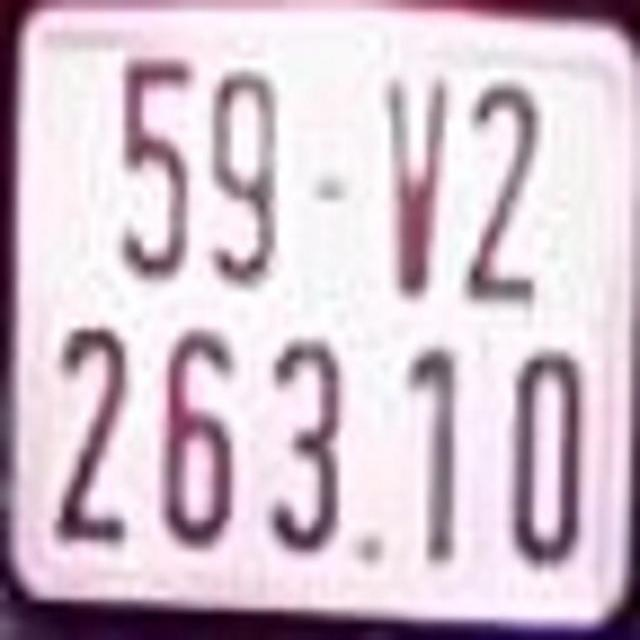0: (516, 350, 584, 566)
1: (410, 338, 462, 557)
2: (56, 322, 132, 552), (468, 79, 544, 308)
3: (272, 332, 340, 550)
5: (122, 48, 192, 279)
6: (167, 322, 233, 552)
9: (210, 69, 280, 288)
V: (378, 72, 442, 299)
